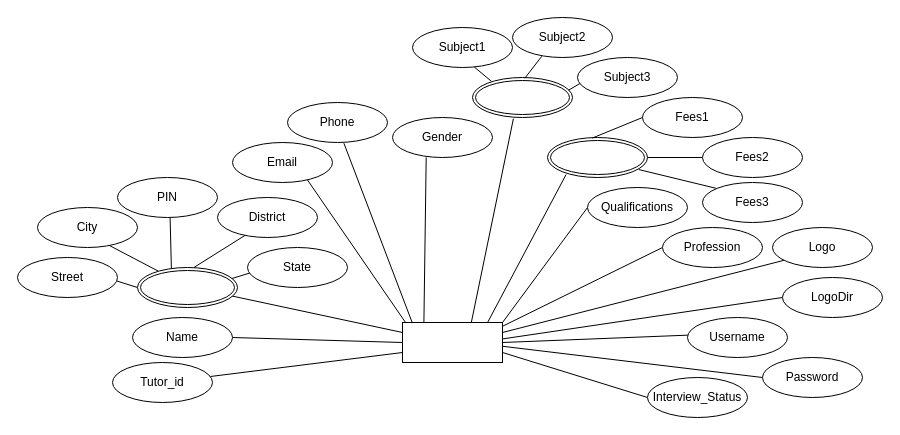
This 900x435 diagram has some shape labels left out. The shapes that lost their labels are listed below. From the top down, each one's centre as x and y in pixels, then its label:
At (522,97): "Subject".
At (597,157): "Fees".
At (187,287): "Address".
At (452,342): "TUTOR".
